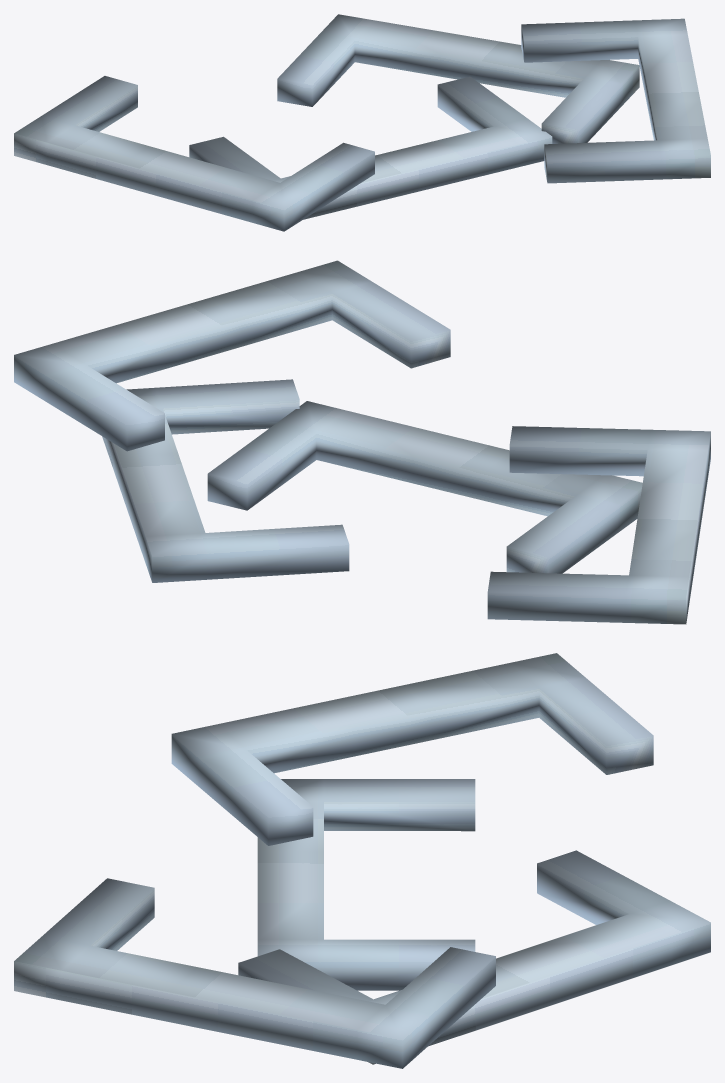
The model's file is WorldItem-HCOffice_Staples.fbx.
3 renders of one model, top to bottom at view 1: azimuth 30°, elevation 25°; view 2: azimuth 150°, elevation 25°; view 3: azimuth 270°, elevation 25°, orthographic. The views are drawn at different scales.
Parts seen in each view (by area): view 1: Staples; view 2: Staples; view 3: Staples.
Boxes of the visible parts, box(x1,y1,x2,y2) form: Staples: box(14, 14, 710, 231); Staples: box(14, 260, 710, 624); Staples: box(14, 653, 710, 1068).
Bounding box in the file's own units: 0.0201 × 0.00172 × 0.015.
